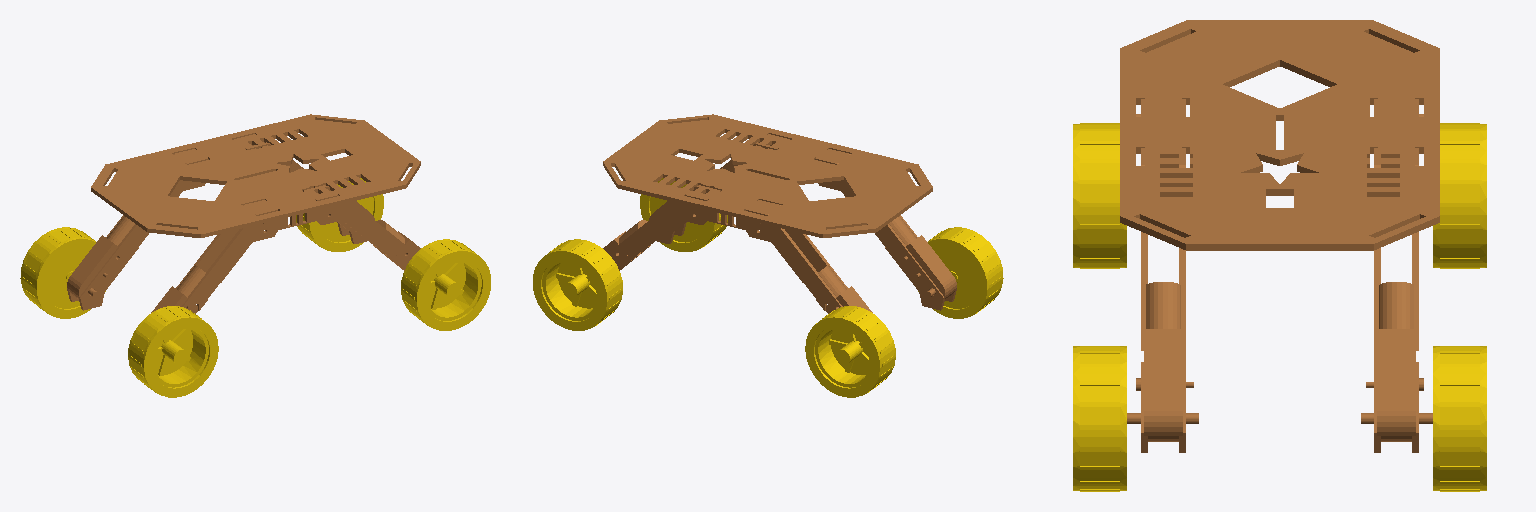
robot.urdf — weed_laser_robot:
<?xml version="1.0"?>
<robot name="weed_laser_robot">

  <!-- ========================================== -->
  <!-- Materials & Colors                         -->
  <!-- ========================================== -->
  <material name="wood_brown">
    <color rgba="0.72 0.50 0.30 1.0"/>
  </material>

  <material name="yellow_plastic">
    <color rgba="0.95 0.82 0.08 1.0"/>
  </material>

  <material name="tire_black">
    <color rgba="0.15 0.15 0.15 1.0"/>
  </material>

  <material name="silver_metal">
    <color rgba="0.80 0.82 0.85 1.0"/>
  </material>

  <!-- ========================================== -->
  <!-- Base Footprint (Ground Projection Z = 0)   -->
  <!-- ========================================== -->
  <link name="base_footprint"/>

  <joint name="base_footprint_joint" type="fixed">
    <parent link="base_footprint"/>
    <child link="base_link"/>
    <origin xyz="0.0 0.0 0.0" rpy="0 0 0"/>
  </joint>

  <!-- ========================================== -->
  <!-- Base Link (Chassis Frame + Fixed Motors)   -->
  <!-- ========================================== -->
  <link name="base_link">
    <inertial>
      <mass value="0.650"/>
      <origin xyz="0.0 0.0 0.095" rpy="0 0 0"/>
      <inertia ixx="0.0021" ixy="0.0" ixz="0.0"
               iyy="0.0042" iyz="0.0"
               izz="0.0051"/>
    </inertial>

    <visual>
      <origin xyz="0.0 0.0 0.0" rpy="0 0 0"/>
      <geometry>
        <mesh filename="package://weed_laser_robot/meshes/chassis_base.stl" scale="0.001 0.001 0.001"/>
      </geometry>
      <material name="wood_brown"/>
    </visual>

    <collision>
      <origin xyz="0.0 0.0 0.12675" rpy="0 0 0"/>
      <geometry>
        <box size="0.256 0.155 0.0035"/>
      </geometry>
    </collision>
    <collision>
      <origin xyz="0.0 0.0565 0.080" rpy="0 0 0"/>
      <geometry>
        <box size="0.255 0.022 0.090"/>
      </geometry>
    </collision>
    <collision>
      <origin xyz="0.0 -0.0565 0.080" rpy="0 0 0"/>
      <geometry>
        <box size="0.255 0.022 0.090"/>
      </geometry>
    </collision>
  </link>

  <!-- ========================================== -->
  <!-- Wheels (4WD Skid Steer)                    -->
  <!-- ========================================== -->

  <!-- Front Left Wheel -->
  <link name="front_left_wheel_link">
    <inertial>
      <mass value="0.045"/>
      <origin xyz="0 0 0" rpy="0 0 0"/>
      <inertia ixx="0.000016" ixy="0.0" ixz="0.0" iyy="0.000027" iyz="0.0" izz="0.000016"/>
    </inertial>
    <visual>
      <origin xyz="0 0 0" rpy="0 0 0"/>
      <geometry>
        <mesh filename="package://weed_laser_robot/meshes/wheel.stl" scale="0.001 0.001 0.001"/>
      </geometry>
      <material name="yellow_plastic"/>
    </visual>
    <collision>
      <origin xyz="0 0 0" rpy="1.570796 0 0"/>
      <geometry>
        <cylinder radius="0.035" length="0.026"/>
      </geometry>
    </collision>
  </link>
  <joint name="front_left_wheel_joint" type="continuous">
    <parent link="base_link"/>
    <child link="front_left_wheel_link"/>
    <origin xyz="0.1275 0.087 0.035" rpy="0 0 0"/>
    <axis xyz="0 1 0"/>
    <limit effort="1.5" velocity="25.0"/>
    <dynamics damping="0.01" friction="0.05"/>
  </joint>

  <!-- Rear Left Wheel -->
  <link name="rear_left_wheel_link">
    <inertial>
      <mass value="0.045"/>
      <origin xyz="0 0 0" rpy="0 0 0"/>
      <inertia ixx="0.000016" ixy="0.0" ixz="0.0" iyy="0.000027" iyz="0.0" izz="0.000016"/>
    </inertial>
    <visual>
      <origin xyz="0 0 0" rpy="0 0 0"/>
      <geometry>
        <mesh filename="package://weed_laser_robot/meshes/wheel.stl" scale="0.001 0.001 0.001"/>
      </geometry>
      <material name="yellow_plastic"/>
    </visual>
    <collision>
      <origin xyz="0 0 0" rpy="1.570796 0 0"/>
      <geometry>
        <cylinder radius="0.035" length="0.026"/>
      </geometry>
    </collision>
  </link>
  <joint name="rear_left_wheel_joint" type="continuous">
    <parent link="base_link"/>
    <child link="rear_left_wheel_link"/>
    <origin xyz="-0.1275 0.087 0.035" rpy="0 0 0"/>
    <axis xyz="0 1 0"/>
    <limit effort="1.5" velocity="25.0"/>
    <dynamics damping="0.01" friction="0.05"/>
  </joint>

  <!-- Front Right Wheel -->
  <link name="front_right_wheel_link">
    <inertial>
      <mass value="0.045"/>
      <origin xyz="0 0 0" rpy="0 0 0"/>
      <inertia ixx="0.000016" ixy="0.0" ixz="0.0" iyy="0.000027" iyz="0.0" izz="0.000016"/>
    </inertial>
    <visual>
      <origin xyz="0 0 0" rpy="0 0 3.14159"/>
      <geometry>
        <mesh filename="package://weed_laser_robot/meshes/wheel.stl" scale="0.001 0.001 0.001"/>
      </geometry>
      <material name="yellow_plastic"/>
    </visual>
    <collision>
      <origin xyz="0 0 0" rpy="1.570796 0 0"/>
      <geometry>
        <cylinder radius="0.035" length="0.026"/>
      </geometry>
    </collision>
  </link>
  <joint name="front_right_wheel_joint" type="continuous">
    <parent link="base_link"/>
    <child link="front_right_wheel_link"/>
    <origin xyz="0.1275 -0.087 0.035" rpy="0 0 0"/>
    <axis xyz="0 1 0"/>
    <limit effort="1.5" velocity="25.0"/>
    <dynamics damping="0.01" friction="0.05"/>
  </joint>

  <!-- Rear Right Wheel -->
  <link name="rear_right_wheel_link">
    <inertial>
      <mass value="0.045"/>
      <origin xyz="0 0 0" rpy="0 0 0"/>
      <inertia ixx="0.000016" ixy="0.0" ixz="0.0" iyy="0.000027" iyz="0.0" izz="0.000016"/>
    </inertial>
    <visual>
      <origin xyz="0 0 0" rpy="0 0 3.14159"/>
      <geometry>
        <mesh filename="package://weed_laser_robot/meshes/wheel.stl" scale="0.001 0.001 0.001"/>
      </geometry>
      <material name="yellow_plastic"/>
    </visual>
    <collision>
      <origin xyz="0 0 0" rpy="1.570796 0 0"/>
      <geometry>
        <cylinder radius="0.035" length="0.026"/>
      </geometry>
    </collision>
  </link>
  <joint name="rear_right_wheel_joint" type="continuous">
    <parent link="base_link"/>
    <child link="rear_right_wheel_link"/>
    <origin xyz="-0.1275 -0.087 0.035" rpy="0 0 0"/>
    <axis xyz="0 1 0"/>
    <limit effort="1.5" velocity="25.0"/>
    <dynamics damping="0.01" friction="0.05"/>
  </joint>

  <!-- ========================================== -->
  <!-- Gazebo Skid-Steer / Diff-Drive Plugin      -->
  <!-- ========================================== -->
  <gazebo>
    <plugin name="skid_steer_drive_controller" filename="libgazebo_ros_diff_drive.so">
      <ros>
        <namespace>/</namespace>
        <remapping>cmd_vel:=cmd_vel</remapping>
        <remapping>odom:=odom</remapping>
      </ros>
      <update_rate>50</update_rate>
      <num_wheel_pairs>2</num_wheel_pairs>
      <left_joint>front_left_wheel_joint</left_joint>
      <left_joint>rear_left_wheel_joint</left_joint>
      <right_joint>front_right_wheel_joint</right_joint>
      <right_joint>rear_right_wheel_joint</right_joint>
      <wheel_separation>0.174</wheel_separation>
      <wheel_diameter>0.070</wheel_diameter>
      <max_wheel_torque>2.0</max_wheel_torque>
      <max_wheel_acceleration>1.5</max_wheel_acceleration>
      <publish_odom>true</publish_odom>
      <publish_odom_tf>true</publish_odom_tf>
      <publish_wheel_tf>true</publish_wheel_tf>
      <odometry_frame>odom</odometry_frame>
      <robot_base_frame>base_footprint</robot_base_frame>
    </plugin>
  </gazebo>

</robot>

--- Render facts (derived) ---
3 views of the same robot in one strip: view 1: azimuth 30°, elevation 25°; view 2: azimuth 150°, elevation 25°; view 3: azimuth 270°, elevation 25° (orthographic).
Model weed_laser_robot with 6 links and 5 joints (4 continuous, 1 fixed), rooted at base_footprint, posed every joint at zero.
Links seen in each view (by area): view 1: base_link, rear_right_wheel_link, front_right_wheel_link, rear_left_wheel_link, front_left_wheel_link; view 2: base_link, rear_left_wheel_link, front_left_wheel_link, rear_right_wheel_link, front_right_wheel_link; view 3: base_link, front_left_wheel_link, front_right_wheel_link, rear_left_wheel_link, rear_right_wheel_link.
Boxes of the visible links, left/top/right/bottom form: base_link: left=67, top=114, right=420, bottom=313; rear_right_wheel_link: left=128, top=306, right=218, bottom=397; front_right_wheel_link: left=401, top=239, right=490, bottom=330; rear_left_wheel_link: left=20, top=227, right=105, bottom=318; front_left_wheel_link: left=296, top=178, right=383, bottom=251; base_link: left=603, top=114, right=956, bottom=313; rear_left_wheel_link: left=805, top=306, right=895, bottom=397; front_left_wheel_link: left=533, top=239, right=622, bottom=330; rear_right_wheel_link: left=918, top=227, right=1003, bottom=318; front_right_wheel_link: left=640, top=178, right=727, bottom=251; base_link: left=1120, top=20, right=1439, bottom=452; front_left_wheel_link: left=1433, top=346, right=1486, bottom=491; front_right_wheel_link: left=1073, top=346, right=1126, bottom=491; rear_left_wheel_link: left=1433, top=123, right=1486, bottom=268; rear_right_wheel_link: left=1073, top=123, right=1126, bottom=268.
Bounding box of the posed robot: 0.3258 × 0.2 × 0.1289 m (x, y, z).
Meshes: 2 distinct files referenced, 5 mesh visuals loaded (2 binary STL).
